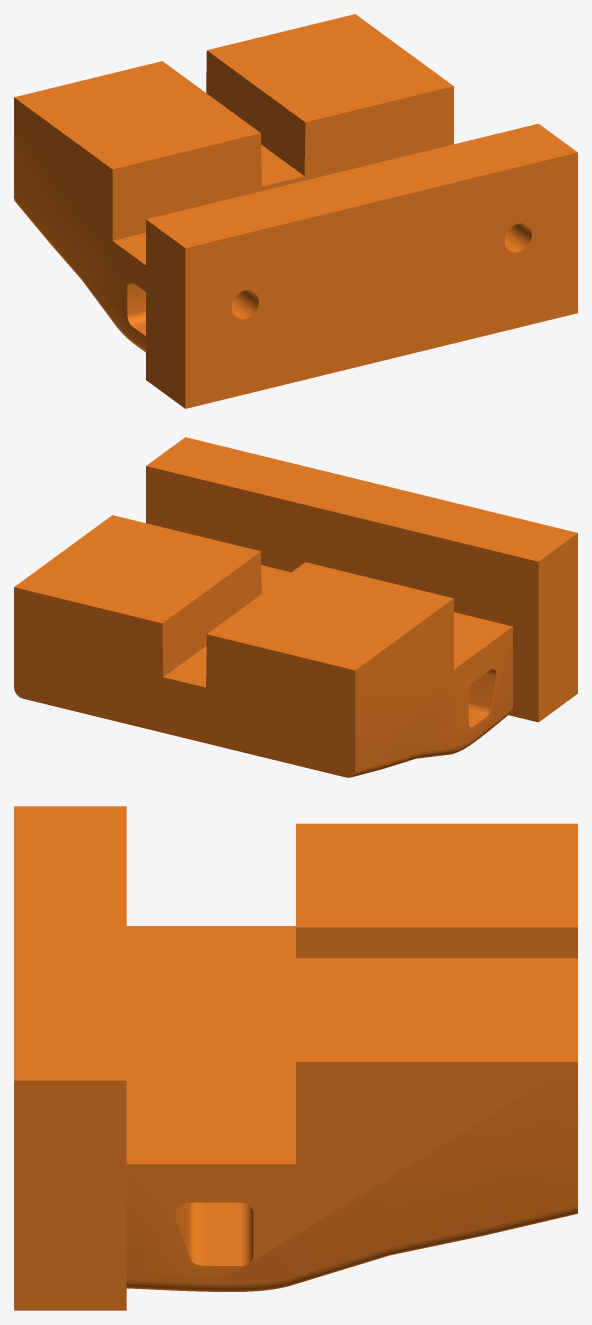
3 views of the same model, one above another, from view 1: azimuth 30°, elevation 25°; view 2: azimuth 150°, elevation 25°; view 3: azimuth 270°, elevation 25° (orthographic). The views are drawn at different scales.
Visible parts, largest first — view 1: finger_right; view 2: finger_right; view 3: finger_right.
Part boxes in pixels (x1,y1,x2,y2): finger_right: (14,14,577,408); finger_right: (14,437,577,777); finger_right: (14,806,577,1310).
Bounding box in the file's own units: 0.046 × 0.0184 × 0.04.
